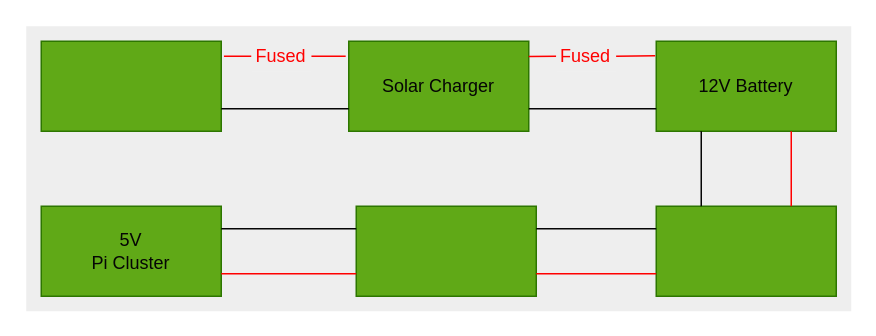
Image size: 876x336. Some labels were removed from this diagram. Each missing label, with the centre of its shape:
12V Solar Panel: point (130, 85)
220V DC to AC Inverter: point (745, 250)
220V POE Switch: point (445, 250)
